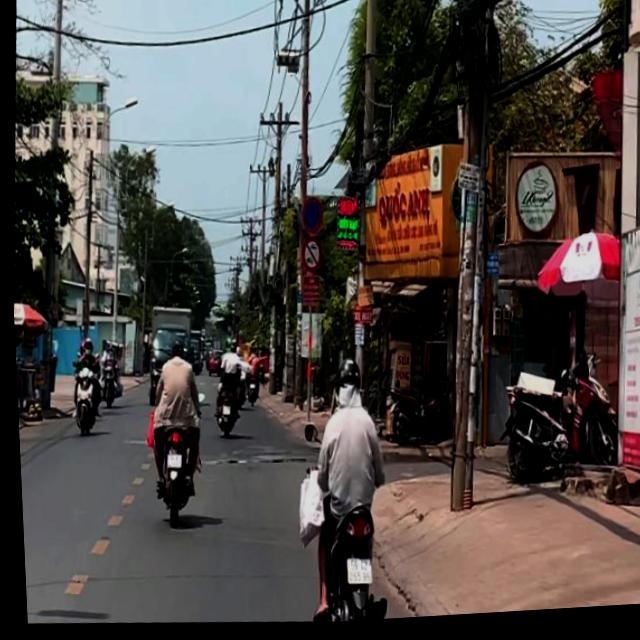Cam do xe: (299, 199, 322, 239)
